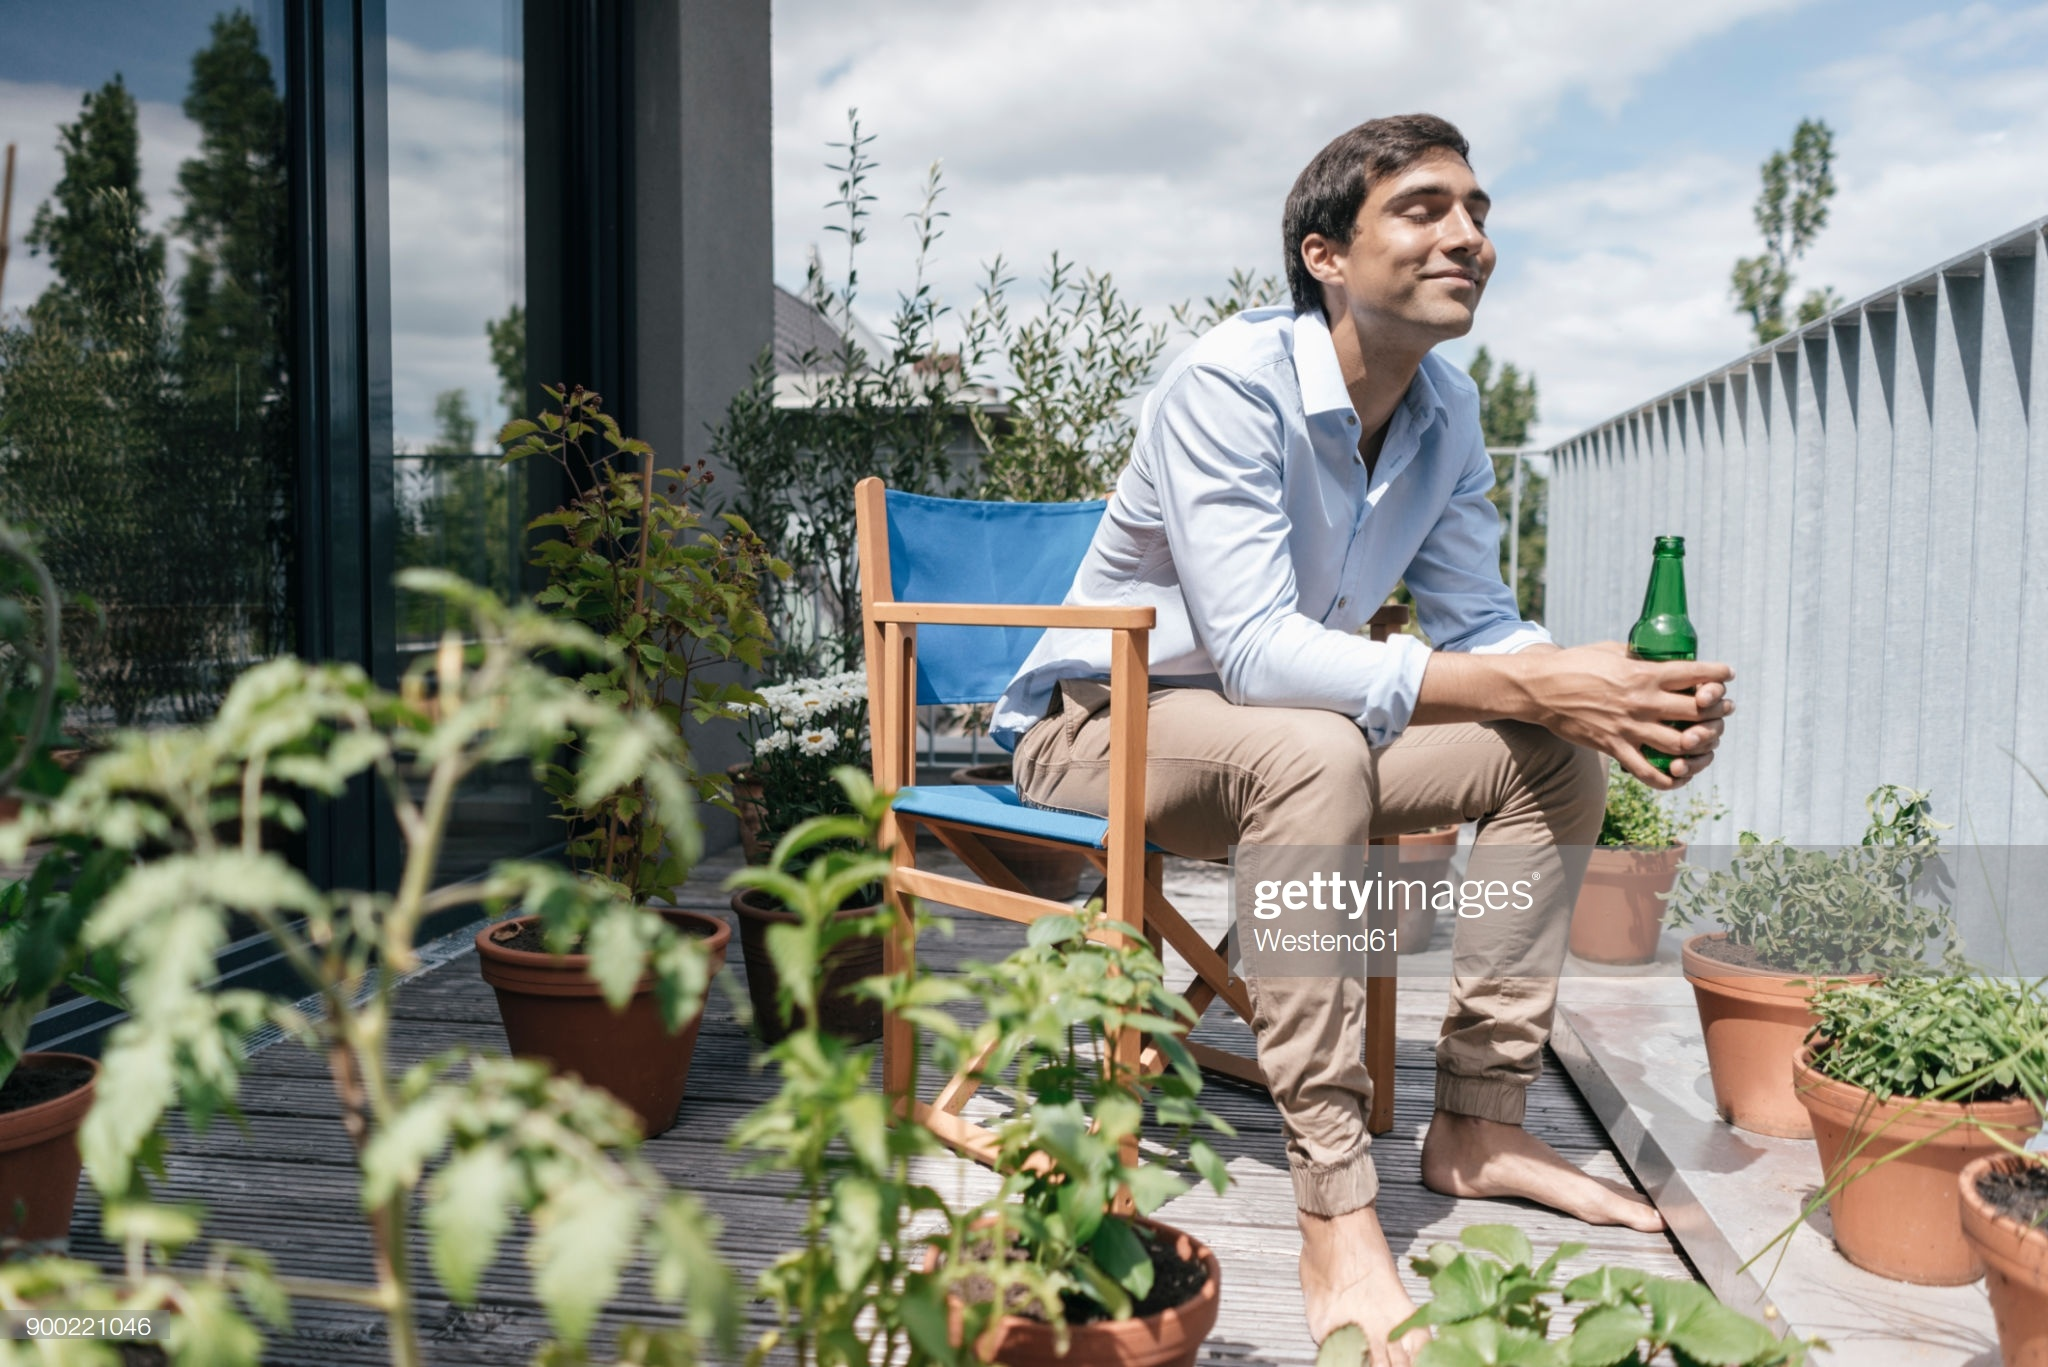beerBottle: (1626, 536, 1691, 783)
